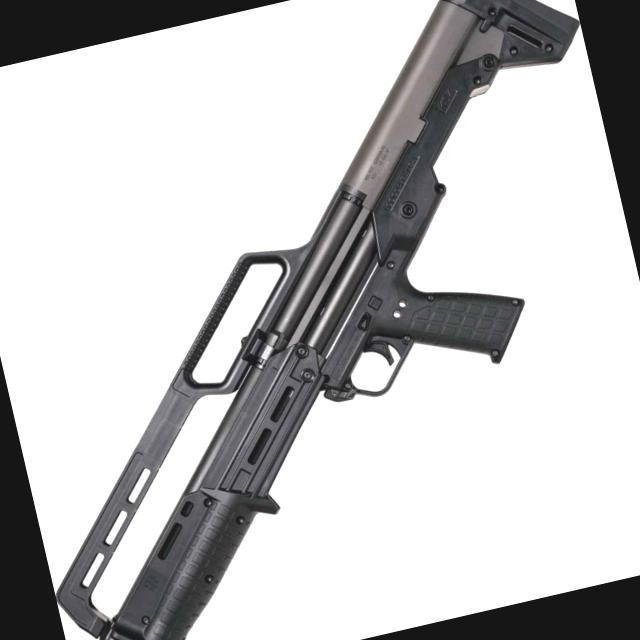long weapon: (71, 0, 584, 640)
